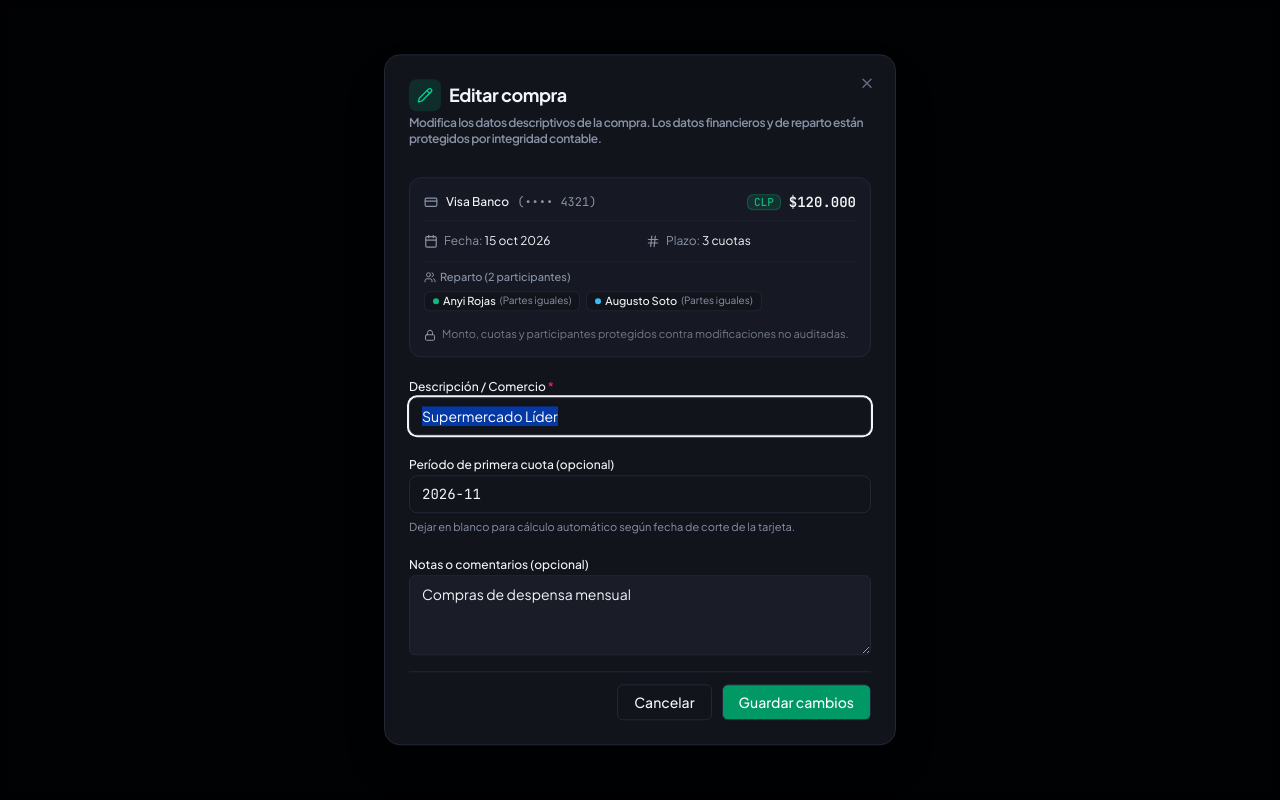
ExpenseEditDialog Component (Spec 005 T6) › valida que la descripción no esté vacía antes de enviar
Clear the field labelled "Descripción / Comercio *" at coordinates (640, 416), box x1=409 y1=397 x2=871 y2=435
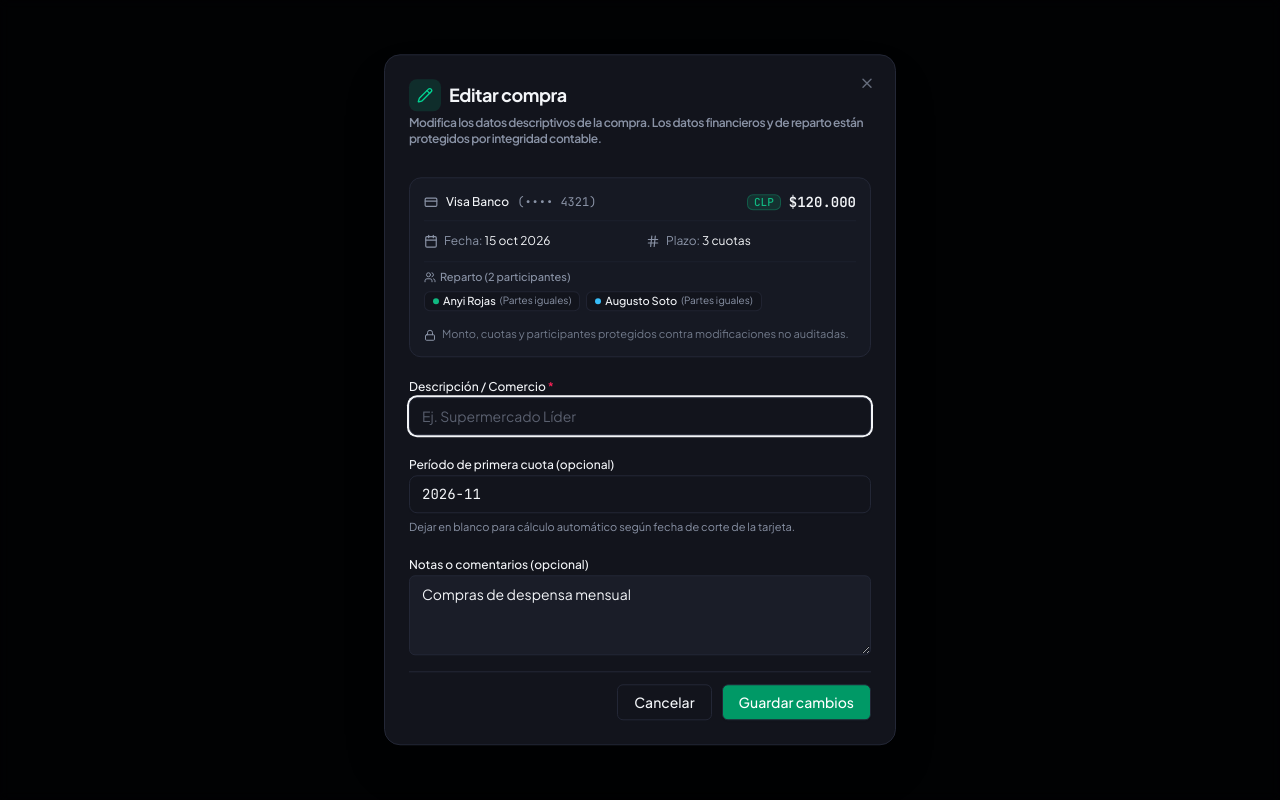
Click the button "Guardar cambios" at coordinates (796, 703), box x1=722 y1=685 x2=871 y2=721
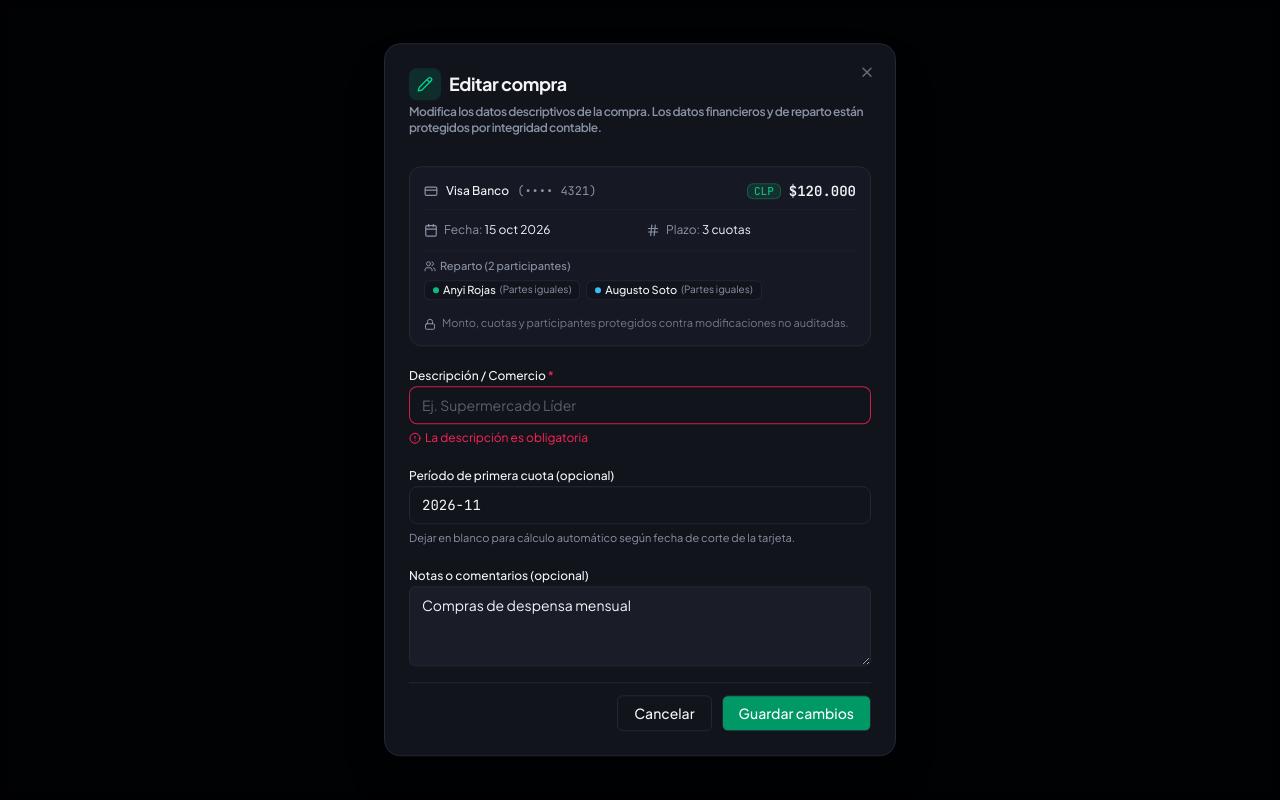
Now the text "La descripción es obligatoria" is shown, box x1=425 y1=430 x2=588 y2=446
